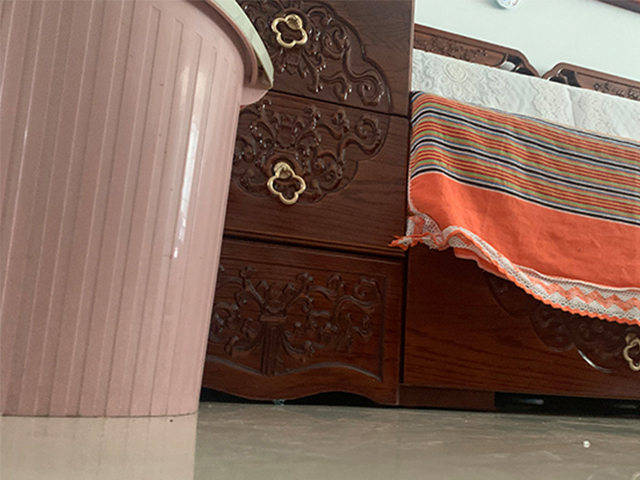sofa: (202, 1, 640, 410)
trashcan: (1, 1, 271, 417)
